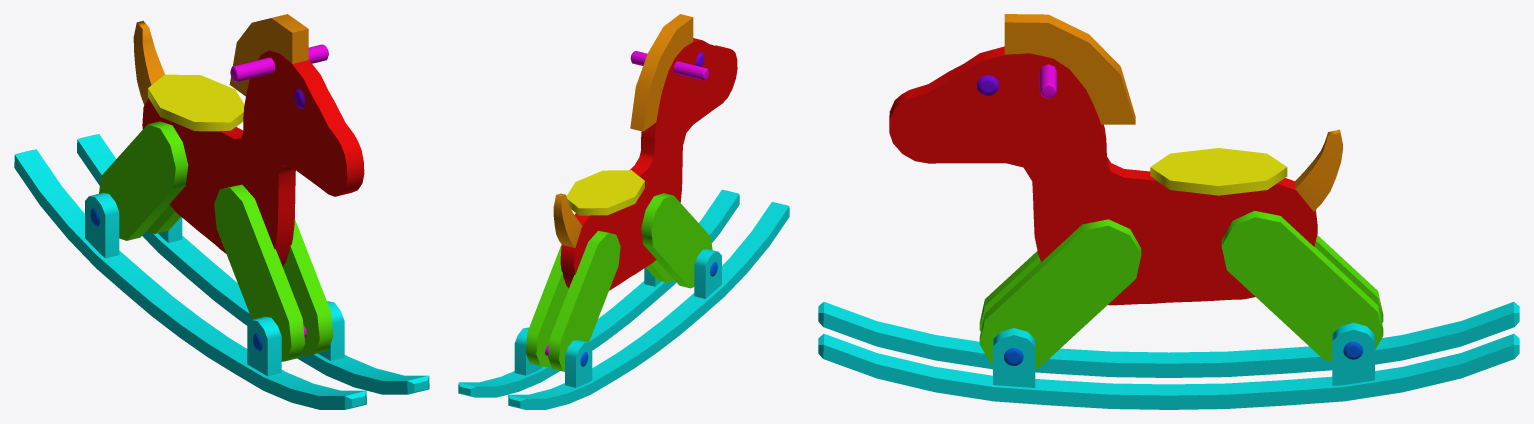
Rendered from XiaoMa.fbx.
The picture shows the model from 3 angles, left to right: view 1: azimuth 30°, elevation 25°; view 2: azimuth 150°, elevation 25°; view 3: azimuth 270°, elevation 25°; orthographic projection. The views are drawn at different scales.
Visible parts, largest first — view 1: Rods, Body, Legs, Hair, Seat, Handles; view 2: Rods, Legs, Body, Hair, Seat, Handles; view 3: Body, Rods, Legs, Hair, Seat.
Boxes of the visible parts, x1,y1,x2,y2 form: Rods: [14, 134, 429, 409]; Body: [142, 50, 364, 266]; Legs: [99, 121, 333, 361]; Hair: [133, 14, 308, 105]; Seat: [148, 74, 244, 131]; Handles: [230, 44, 328, 337]; Rods: [458, 189, 789, 409]; Legs: [525, 193, 712, 371]; Body: [560, 38, 737, 290]; Hair: [553, 14, 693, 247]; Seat: [566, 170, 644, 215]; Handles: [545, 51, 709, 355]; Body: [889, 46, 1317, 305]; Rods: [818, 302, 1519, 409]; Legs: [979, 210, 1383, 368]; Hair: [1004, 14, 1342, 211]; Seat: [1150, 148, 1287, 195].
Bounding box in the file's own units: 2.48 × 9.03 × 15.5.
